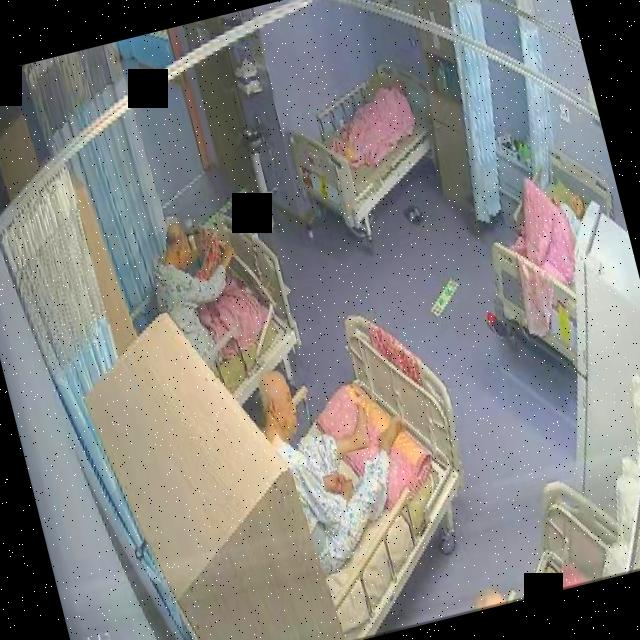bed: (256, 298, 501, 640), (461, 133, 640, 384), (144, 205, 312, 421), (274, 54, 448, 238)
lie: (496, 168, 607, 300)
patient: (252, 343, 438, 602), (142, 204, 288, 366), (551, 187, 596, 245)
sit: (254, 344, 439, 600), (142, 204, 287, 368)
